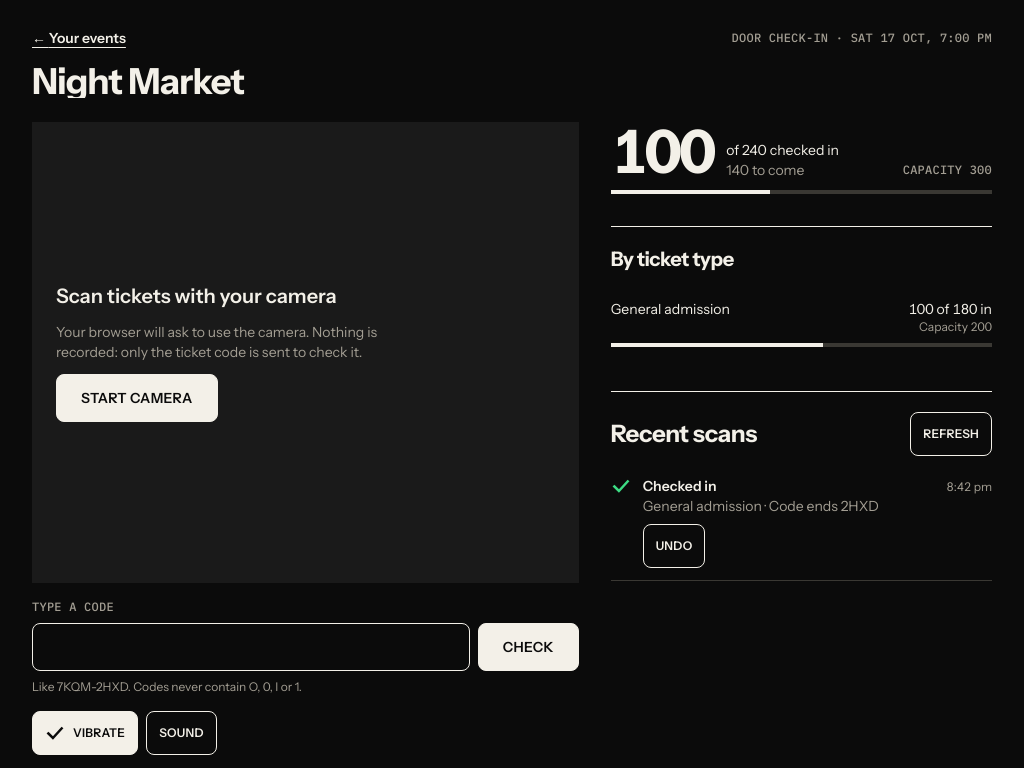
Test: outcomes › void: DON'T LET IN, its reason, Scan next, and the announcement
Type "7KQM-2HXD" into the field labelled "Type a code" at [251, 647], box [32,623,470,671]
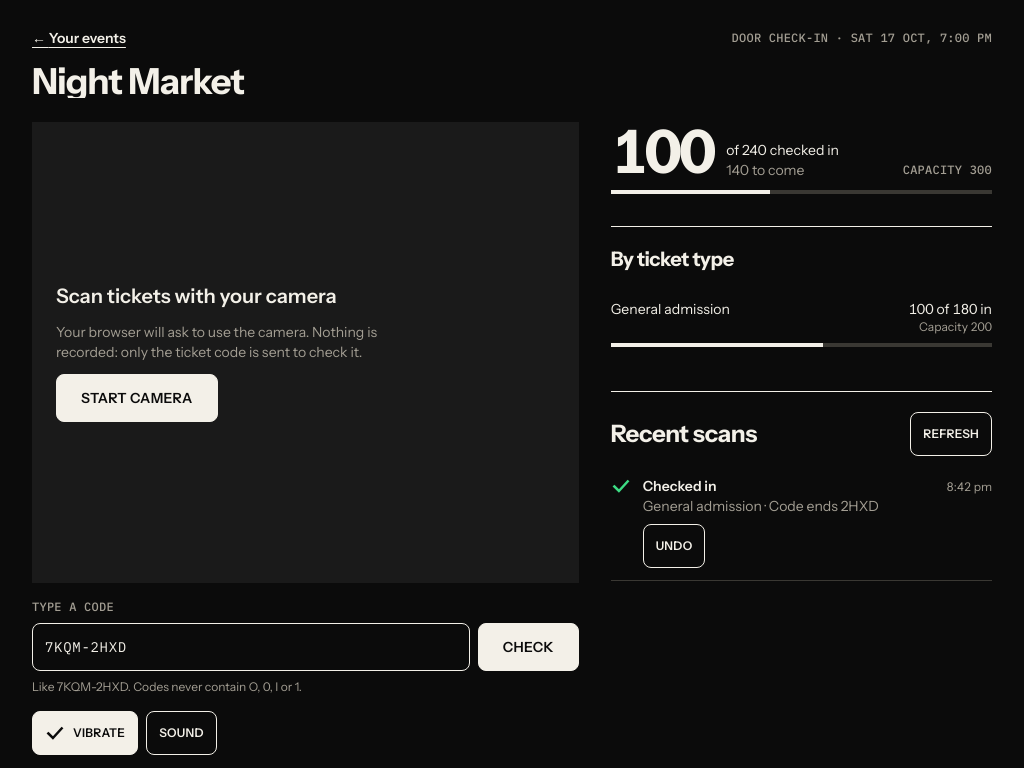
Click the button "Check" at [528, 647], box [478,623,579,671]
Wait 40 ms
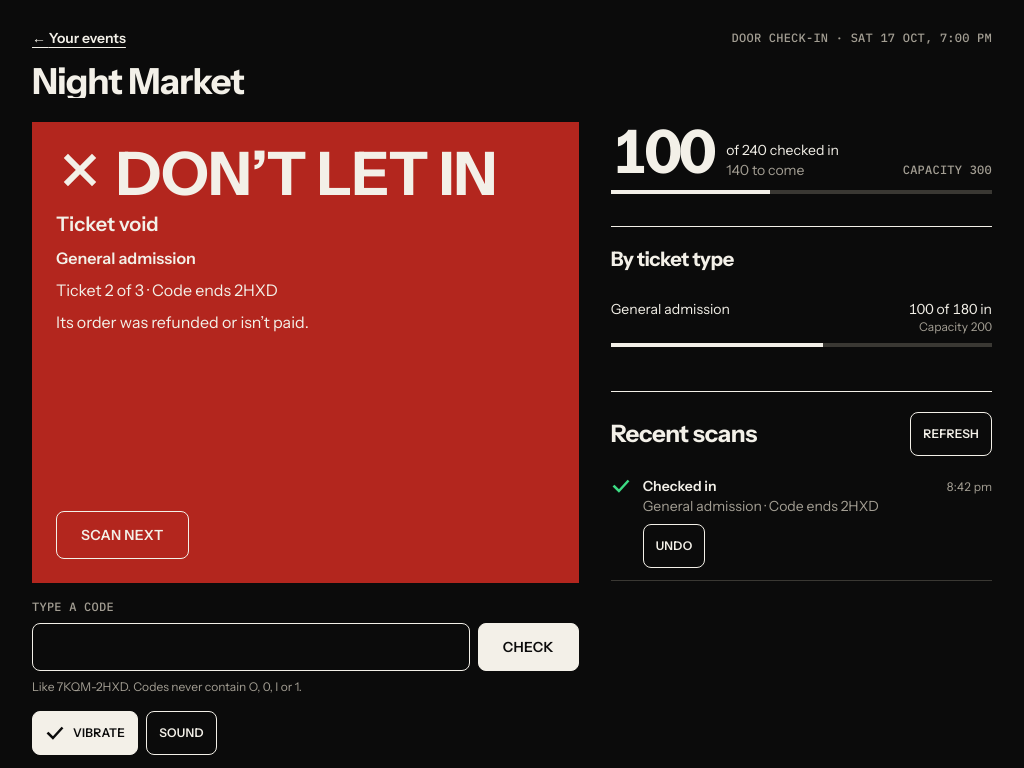
Now the text "Don’t let in" is shown, box [116,146,496,202]
Now the text "Ticket void" is shown, box [56,212,159,236]
Now the text "Its order was refunded or isn’t paid." is shown, box [56,312,309,332]
